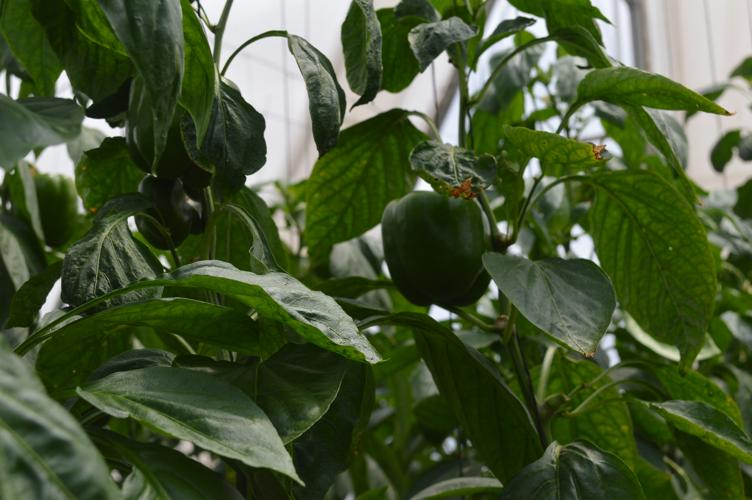BellPepper: (366, 194, 497, 306), (120, 87, 188, 176), (127, 178, 206, 247)
